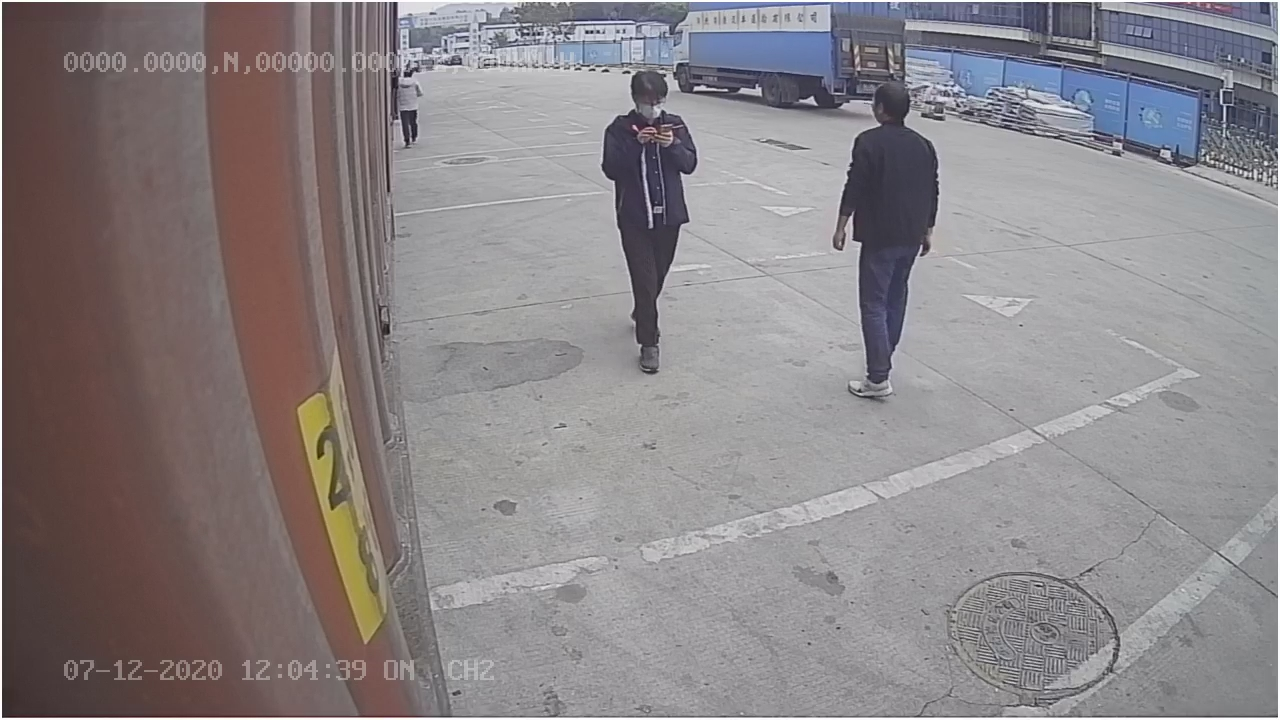person: (601, 68, 700, 373)
